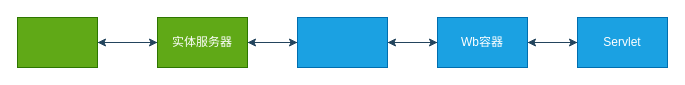
The diagram is 685 pixels wide and 85 high, and some of its shapes have lost their labels. Each missing label, with the centre of its shape:
HTTP 服务器程序: the point at 342,42
浏览器: the point at 57,42
